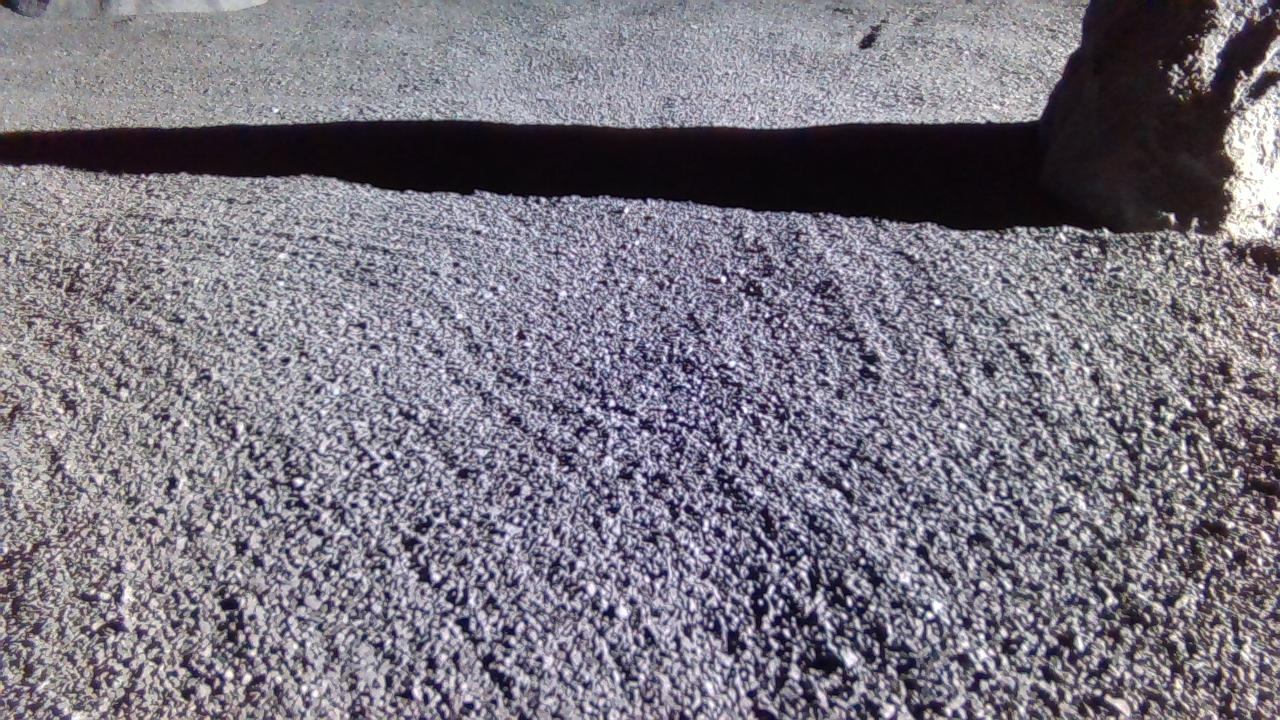rock: (1041, 0, 1280, 238), (0, 0, 266, 16)
